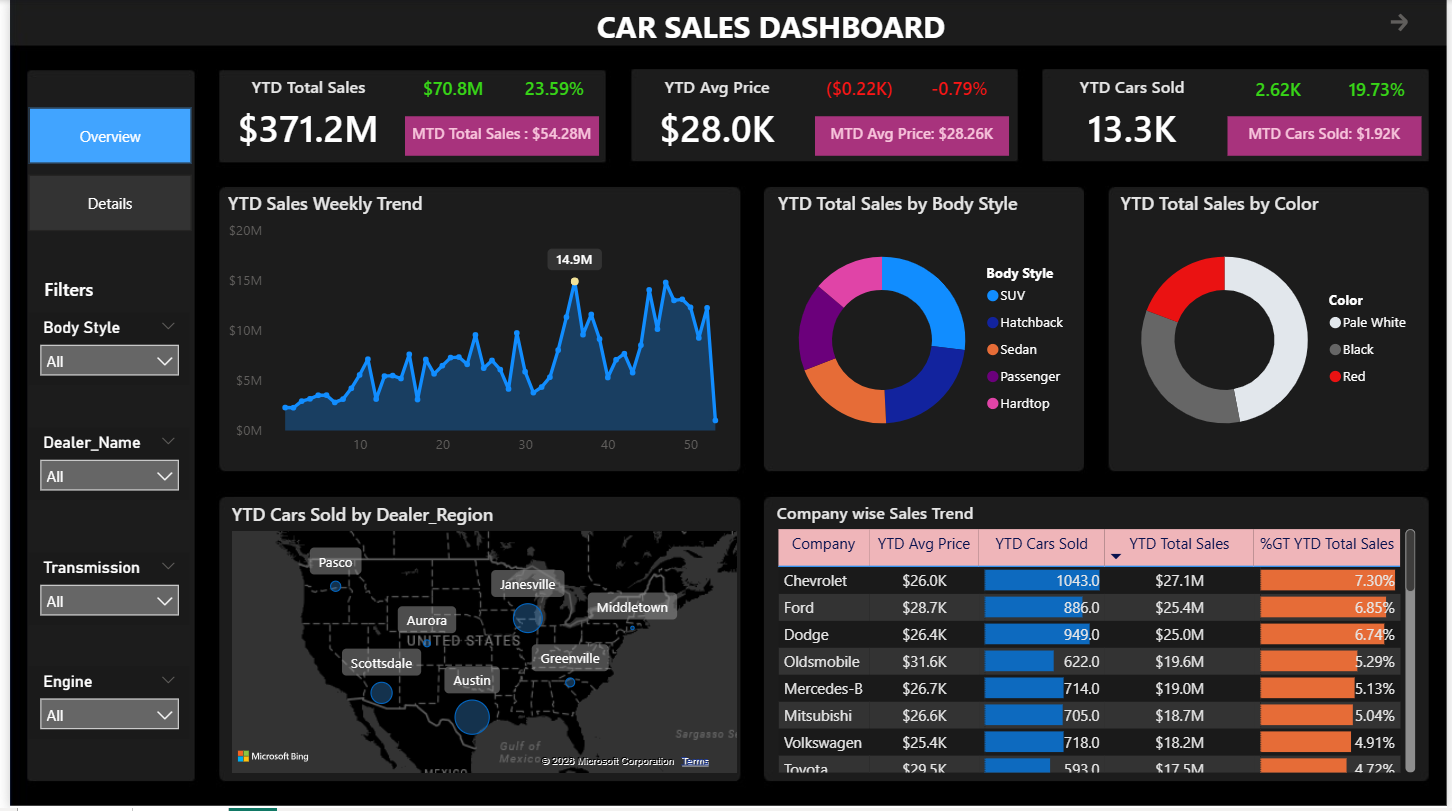

The dashboard page shown, as its layout file describes it:
{"tool":"powerbi","page":{"name":"Overview","canvas":[1280,720],"ordinal":0},"visuals":[{"type":"card","title":"YTD Total Sales","fields":{"Values":["car_data.YTD Total Sales"]},"box":[189.4,66.4,153.2,74.8],"z":0},{"type":"card","fields":{"Values":["car_data.Sales Difference"]},"box":[354.7,66.4,79.6,27.7],"z":1000},{"type":"card","fields":{"Values":["car_data.YoY Sales Growth"]},"box":[445.2,66.4,79.6,27.7],"z":2000},{"type":"card","fields":{"Values":["car_data.MTD KPI"]},"box":[352.3,103.8,172.5,35],"z":3000},{"type":"card","title":"YTD Avg Price","fields":{"Values":["car_data.YTD Avg Price"]},"box":[553.8,66.4,153.2,74.8],"z":4000},{"type":"card","fields":{"Values":["car_data.Avg Price Difference"]},"box":[716.6,66.4,79.6,27.7],"z":5000},{"type":"card","fields":{"Values":["car_data.YoY Avg Price Growth"]},"box":[805.9,66.4,79.6,27.7],"z":6000},{"type":"card","fields":{"Values":["car_data.MTD Avg Price KPI"]},"box":[716.6,103.8,172.5,35],"z":7000},{"type":"card","title":"YTD Cars Sold","fields":{"Values":["car_data.YTD Cars Sold"]},"box":[922.9,66.4,153.2,74.8],"z":8000},{"type":"card","fields":{"Values":["car_data.Cars Sold Difference"]},"box":[1089.4,67.6,79.6,27.7],"z":9000},{"type":"card","fields":{"Values":["car_data.YoY Car Sold Growth"]},"box":[1177.5,67.6,79.6,27.7],"z":10000},{"type":"card","fields":{"Values":["car_data.MTD Cars Sold KPI"]},"box":[1084.6,103.8,172.5,35],"z":11000},{"type":"areaChart","title":"YTD Sales Weekly Trend","fields":{"Category":["Calendar Table.Week"],"Y":["Sum(car_data.Price ($))","car_data.Max Point"]},"box":[189.5,169.3,461.5,244.5],"z":12000},{"type":"donutChart","fields":{"Category":["car_data.Body Style"],"Y":["car_data.YTD Total Sales"]},"box":[678.5,169.3,273.4,245.9],"z":13000},{"type":"donutChart","fields":{"Category":["car_data.Color"],"Y":["car_data.YTD Total Sales"]},"box":[983.7,169.3,273.4,245.9],"z":14000},{"type":"map","fields":{"Category":["car_data.Dealer_Region"],"Size":["car_data.YTD Cars Sold"]},"box":[192.1,446.2,459.6,246.8],"z":15000},{"type":"tableEx","title":"Company wise Sales Trend","fields":{"Values":["car_data.Company","car_data.YTD Avg Price","car_data.YTD Cars Sold","car_data.YTD Total Sales1","car_data.YTD Total Sales"]},"box":[678.4,446.2,578.7,246.8],"z":16000},{"type":"textbox","box":[502.1,0,351.4,48.6],"z":17000},{"type":"slicer","fields":{"Values":["car_data.Body Style"]},"box":[17,278.4,143.5,64.4],"z":18000},{"type":"slicer","fields":{"Values":["car_data.Dealer_Name"]},"box":[17,380.5,143.5,64.4],"z":19000},{"type":"slicer","fields":{"Values":["car_data.Transmission"]},"box":[17,492.4,143.5,64.4],"z":20000},{"type":"slicer","fields":{"Values":["car_data.Engine"]},"box":[17,593.3,143.5,64.4],"z":21000},{"type":"textbox","box":[25.5,241.9,71.7,36.5],"z":22000},{"type":"actionButton","box":[1217,0,49.8,40.1],"z":23000},{"type":"pageNavigator","box":[16.9,95.3,146,111],"z":23001}]}

Visuals, with their boxes on the page's 1280x720 design canvas (x1, y1, x2, y2). These are canvas units, not pixel positions in the 1452x811 screenshot, which may show the page scaled, cropped or inside an application window:
"YTD Total Sales" card: bbox=(189, 66, 343, 141)
card - car_data.Sales Difference: bbox=(355, 66, 434, 94)
card - car_data.YoY Sales Growth: bbox=(445, 66, 525, 94)
card - car_data.MTD KPI: bbox=(352, 104, 525, 139)
"YTD Avg Price" card: bbox=(554, 66, 707, 141)
card - car_data.Avg Price Difference: bbox=(717, 66, 796, 94)
card - car_data.YoY Avg Price Growth: bbox=(806, 66, 886, 94)
card - car_data.MTD Avg Price KPI: bbox=(717, 104, 889, 139)
"YTD Cars Sold" card: bbox=(923, 66, 1076, 141)
card - car_data.Cars Sold Difference: bbox=(1089, 68, 1169, 95)
card - car_data.YoY Car Sold Growth: bbox=(1178, 68, 1257, 95)
card - car_data.MTD Cars Sold KPI: bbox=(1085, 104, 1257, 139)
"YTD Sales Weekly Trend" areaChart: bbox=(190, 169, 651, 414)
donutChart - car_data.Body Style x car_data.YTD Total Sales: bbox=(678, 169, 952, 415)
donutChart - car_data.Color x car_data.YTD Total Sales: bbox=(984, 169, 1257, 415)
map - car_data.Dealer_Region x car_data.YTD Cars Sold: bbox=(192, 446, 652, 693)
"Company wise Sales Trend" tableEx: bbox=(678, 446, 1257, 693)
textbox: bbox=(502, 0, 854, 49)
slicer - car_data.Body Style: bbox=(17, 278, 160, 343)
slicer - car_data.Dealer_Name: bbox=(17, 380, 160, 445)
slicer - car_data.Transmission: bbox=(17, 492, 160, 557)
slicer - car_data.Engine: bbox=(17, 593, 160, 658)
textbox: bbox=(26, 242, 97, 278)
actionButton: bbox=(1217, 0, 1267, 40)
pageNavigator: bbox=(17, 95, 163, 206)
